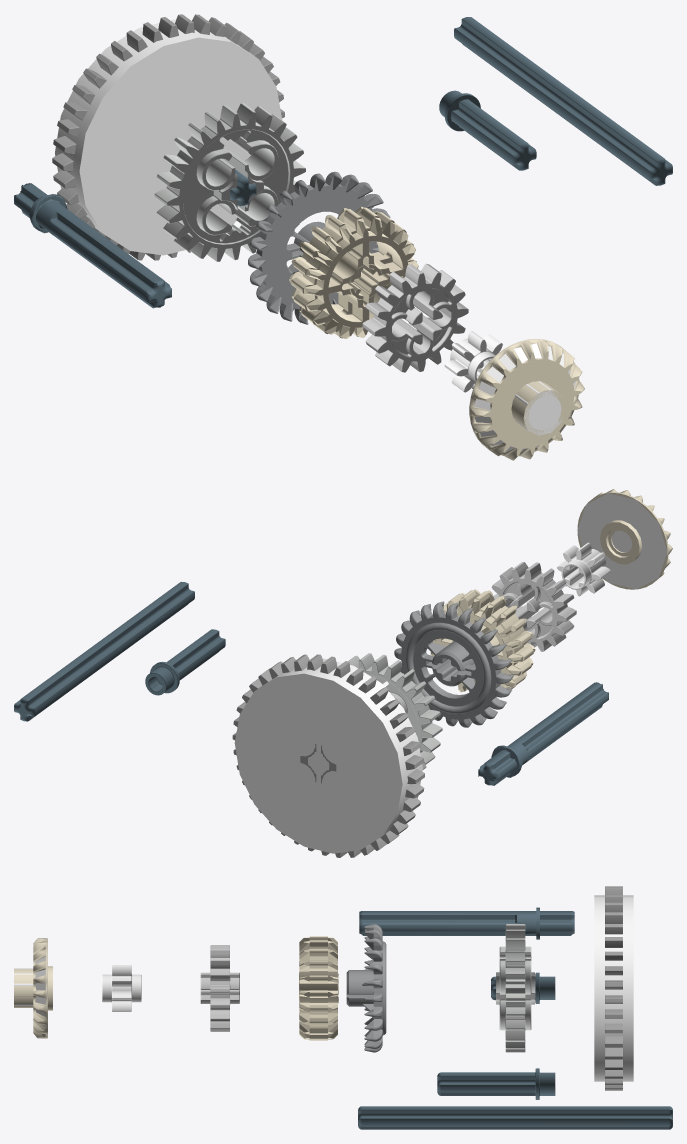
Rendered from gears.glb.
3 views of the same model, one above another, from view 1: azimuth 30°, elevation 25°; view 2: azimuth 150°, elevation 25°; view 3: azimuth 270°, elevation 25° (orthographic). The views are drawn at different scales.
Parts seen in each view (by area): view 1: Cylinder001, g_24, g_20, g_20_in, g_24_c, g_16, a_8, g_40, a_3, a_2, s_20_in, g_8; view 2: Cylinder001, g_24_c, a_8, g_40, s_20_in, g_16, a_3, g_20, g_24, a_2, g_20_in, g_8; view 3: a_8, a_3, Cylinder001, g_20, g_24, g_24_c, g_40, a_2, g_16, g_20_in, g_8, a_1 (+1 smaller).
Boxes of the visible parts, x1,y1,x2,y2 form: Cylinder001: [55, 19, 282, 255]; g_24: [154, 103, 305, 261]; g_20: [289, 206, 418, 339]; g_20_in: [469, 339, 584, 460]; g_24_c: [248, 171, 390, 324]; g_16: [362, 263, 468, 372]; a_8: [454, 17, 672, 185]; g_40: [52, 14, 284, 260]; a_3: [14, 183, 171, 308]; a_2: [439, 90, 536, 170]; s_20_in: [474, 339, 576, 452]; g_8: [444, 331, 502, 392]; Cylinder001: [234, 658, 422, 853]; g_24_c: [394, 601, 513, 727]; a_8: [14, 581, 194, 721]; g_40: [232, 654, 424, 857]; s_20_in: [577, 493, 667, 589]; g_16: [491, 562, 576, 651]; a_3: [478, 682, 608, 785]; g_20: [430, 589, 535, 692]; g_24: [348, 653, 442, 769]; a_2: [145, 629, 225, 695]; g_20_in: [577, 489, 672, 589]; g_8: [557, 542, 610, 596]; a_8: [358, 1106, 672, 1129]; a_3: [359, 907, 574, 939]; Cylinder001: [594, 895, 633, 1081]; g_20: [299, 936, 338, 1040]; g_24: [496, 924, 535, 1052]; g_24_c: [346, 924, 386, 1052]; g_40: [605, 886, 622, 1090]; a_2: [437, 1068, 555, 1099]; g_16: [200, 945, 239, 1031]; g_20_in: [14, 938, 52, 1038]; g_8: [102, 965, 141, 1011]; a_1: [491, 972, 555, 1003].
Size of the model in its own units: 9.94 by 4.15 by 13.39.
